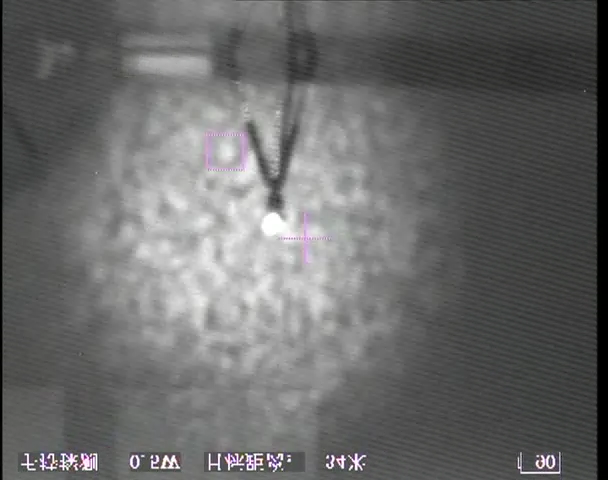my: (259, 211, 284, 237)
